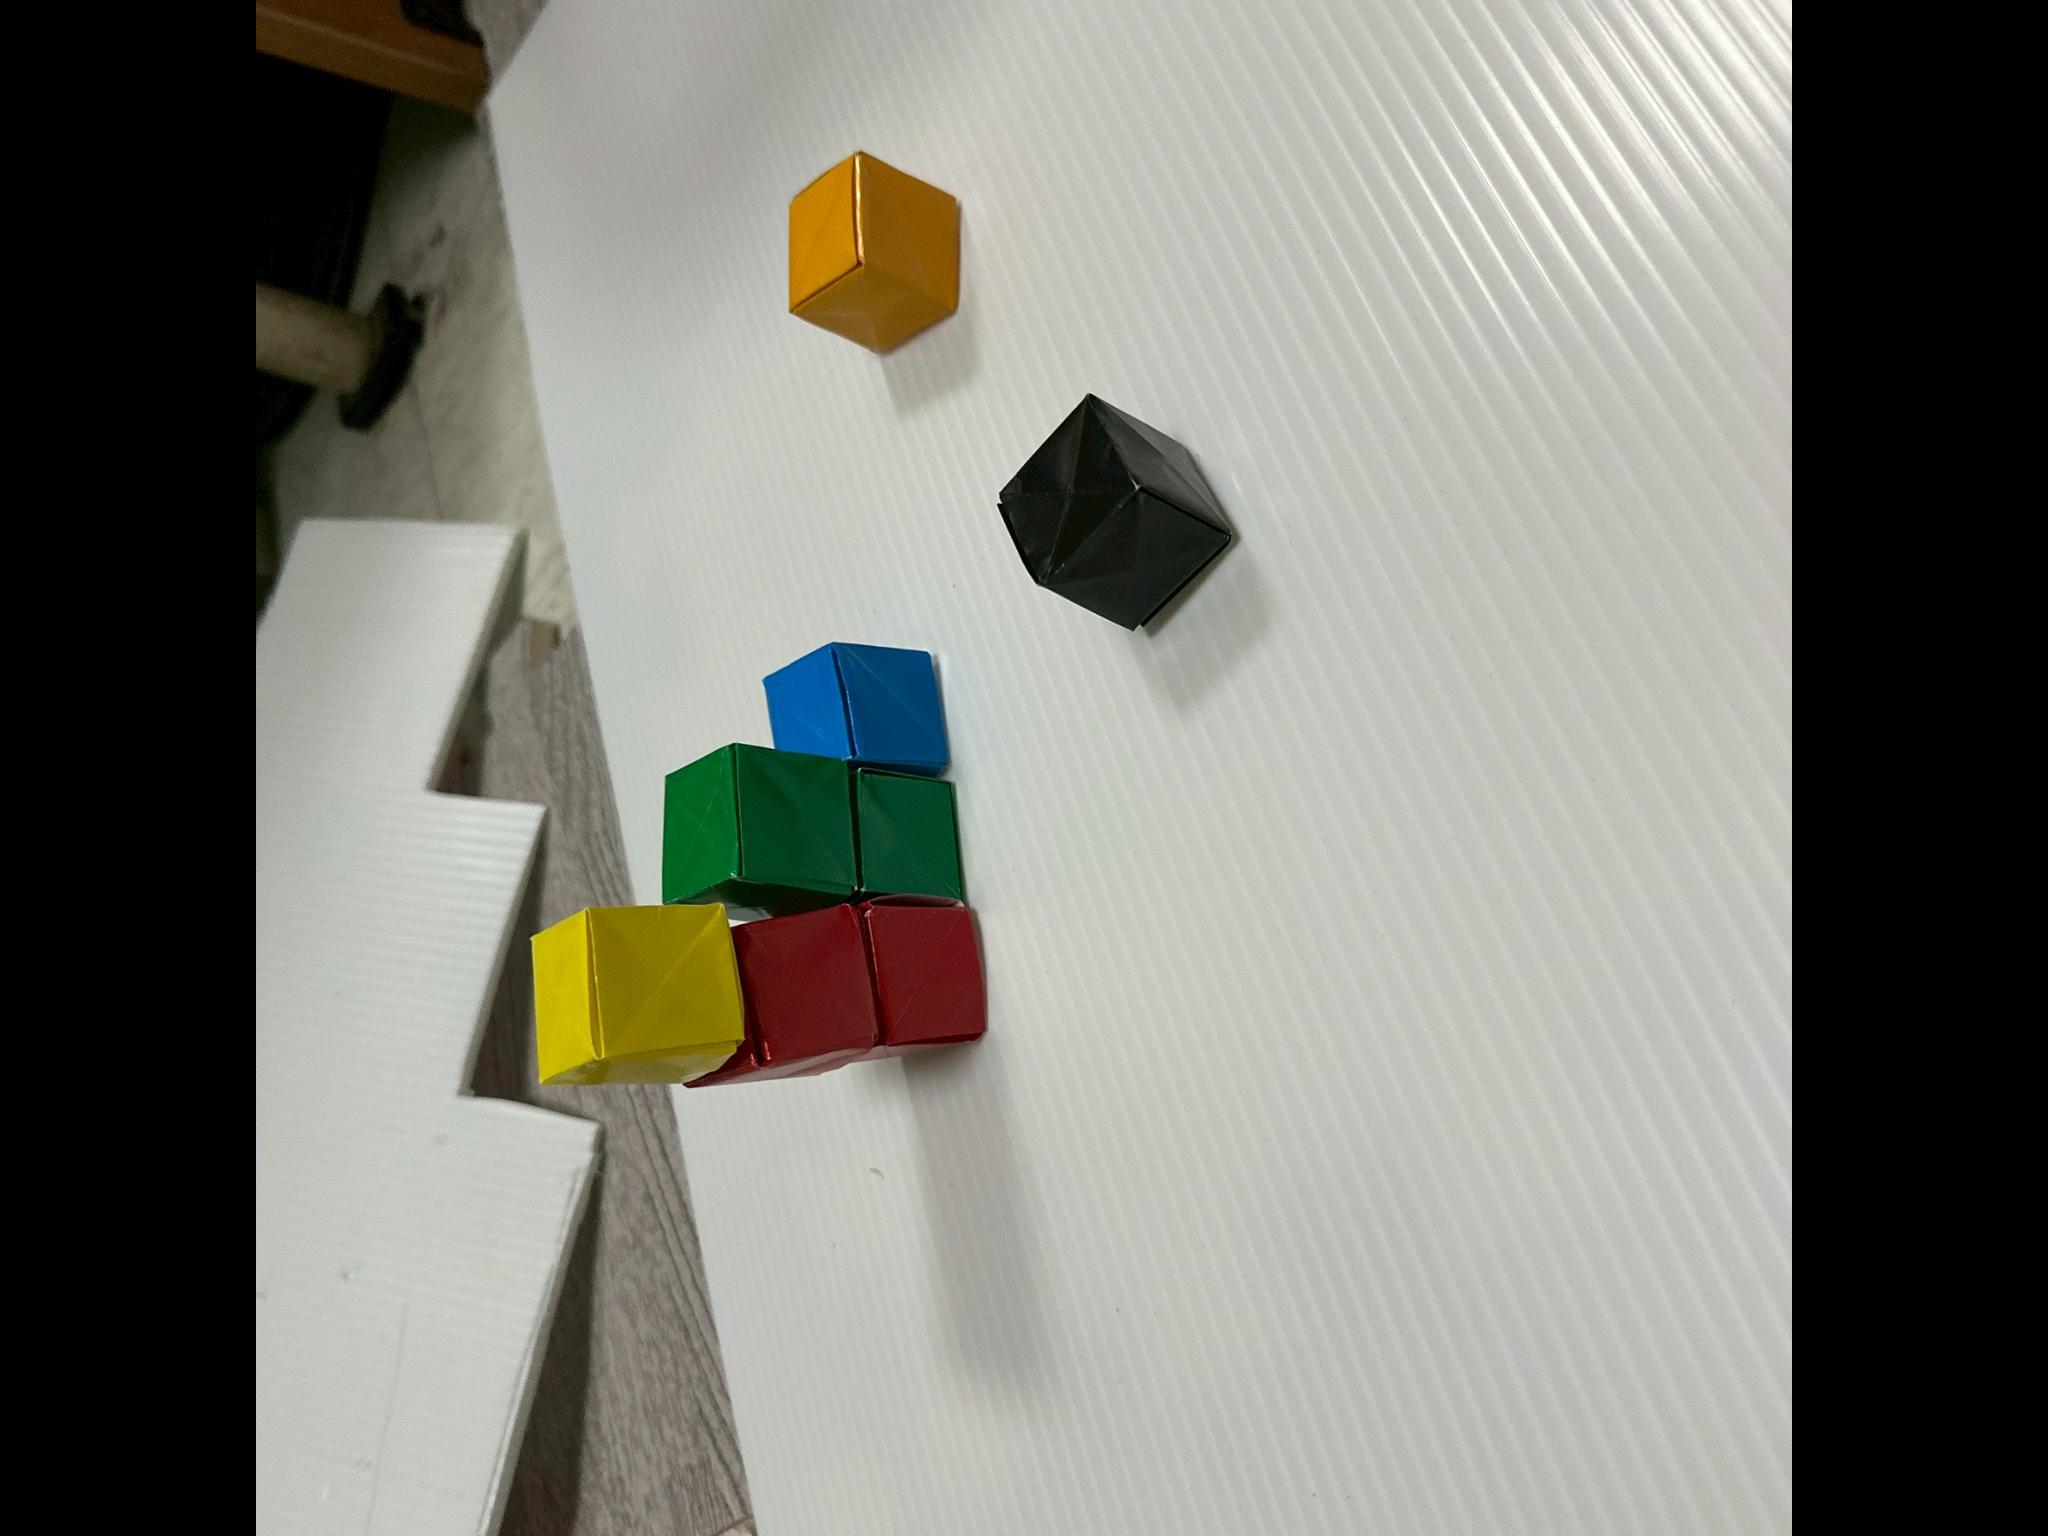cube: (1000, 394, 1230, 628), (534, 902, 743, 1083), (689, 904, 877, 1083), (790, 152, 958, 352), (664, 744, 856, 913), (764, 642, 950, 773), (855, 899, 985, 1057), (856, 768, 963, 899)
